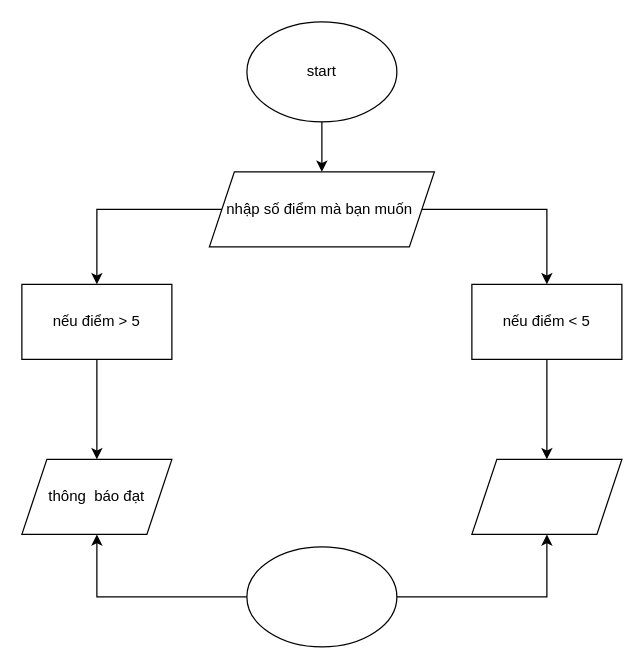
The diagram is 644 pixels wide and 669 high, and some of its shapes have lost their labels. Here are the shapes that lost their labels. From the top down, the centre of each, then its label:
pixel 546 496: thông báo chưa đạt
pixel 321 596: end
